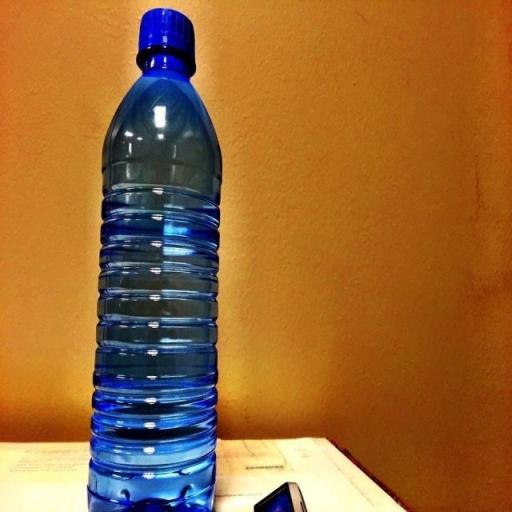plastic: (86, 4, 226, 511)
